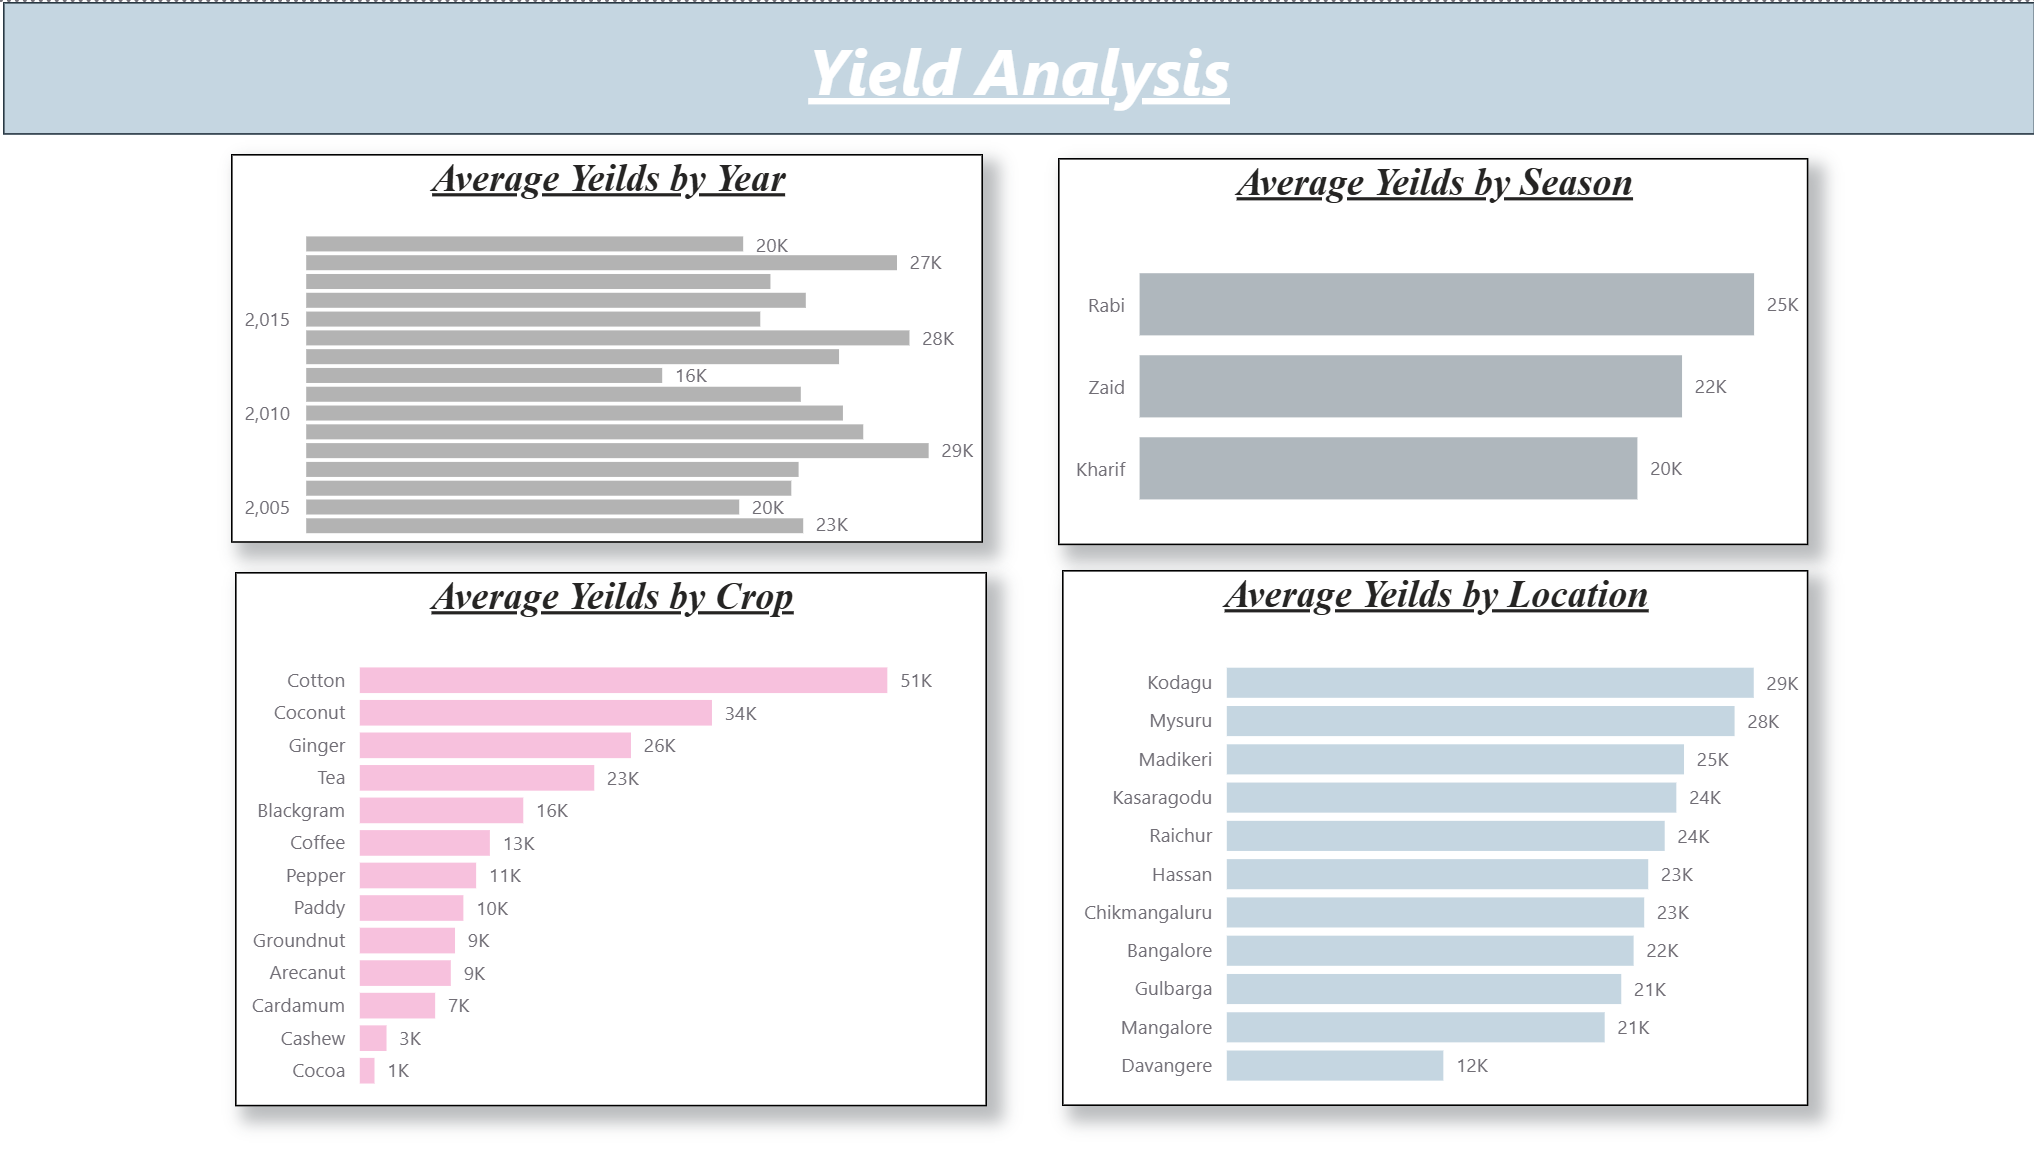

This screenshot's page, from the dashboard's own definition file:
{"tool":"powerbi","page":{"name":"Yield_Analysis","canvas":[1280,720],"ordinal":3},"visuals":[{"type":"shape","box":[10.4,0,1269.5,82.9],"z":0},{"type":"barChart","title":"Average Yeilds by Year","fields":{"Category":["AGRICULTURE.YEAR"],"Y":["Avg(AGRICULTURE.YEILDS)"]},"box":[152.5,95.6,470,243.1],"z":1000},{"type":"barChart","title":"Average Yeilds by Season","fields":{"Category":["AGRICULTURE.SEASON"],"Y":["Avg(AGRICULTURE.YEILDS)"]},"box":[668.7,97.1,469.1,242.1],"z":2000},{"type":"barChart","title":"Average Yeilds by Crop","fields":{"Category":["AGRICULTURE.CROPS"],"Y":["Avg(AGRICULTURE.YEILDS)"]},"box":[154.8,356,470,334.1],"z":3000},{"type":"barChart","title":"Average Yeilds by Location","fields":{"Category":["AGRICULTURE.LOCATION"],"Y":["Avg(AGRICULTURE.YEILDS)"]},"box":[671.5,355.6,466.3,335],"z":4000}]}

Visuals, with their boxes in screenshot pixels (x1, y1, x2, y2), scaled from the page's 1280x720 canvas onto the 2034x1150 screenshot:
shape: bbox=[17, 0, 2033, 132]
"Average Yeilds by Year" barChart: bbox=[242, 153, 989, 541]
"Average Yeilds by Season" barChart: bbox=[1063, 155, 1808, 542]
"Average Yeilds by Crop" barChart: bbox=[246, 569, 993, 1102]
"Average Yeilds by Location" barChart: bbox=[1067, 568, 1808, 1103]
